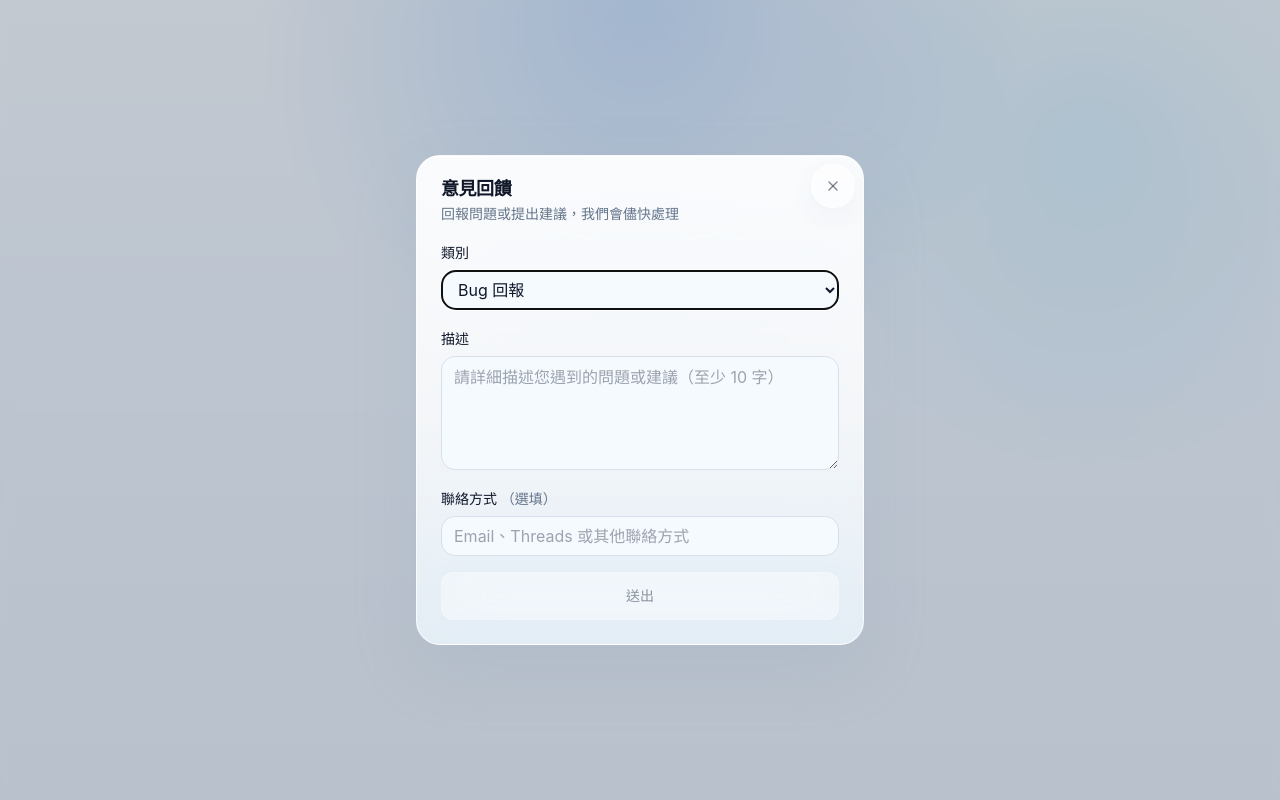
Test: FeedbackModal › 錯誤處理 › fetch 失敗 → 顯示網路錯誤 + 表單保留
Type "這個功能有問題，需要修正一下。" into the text box labelled "描述" at coordinates (640, 413), box 441,356 -> 839,470
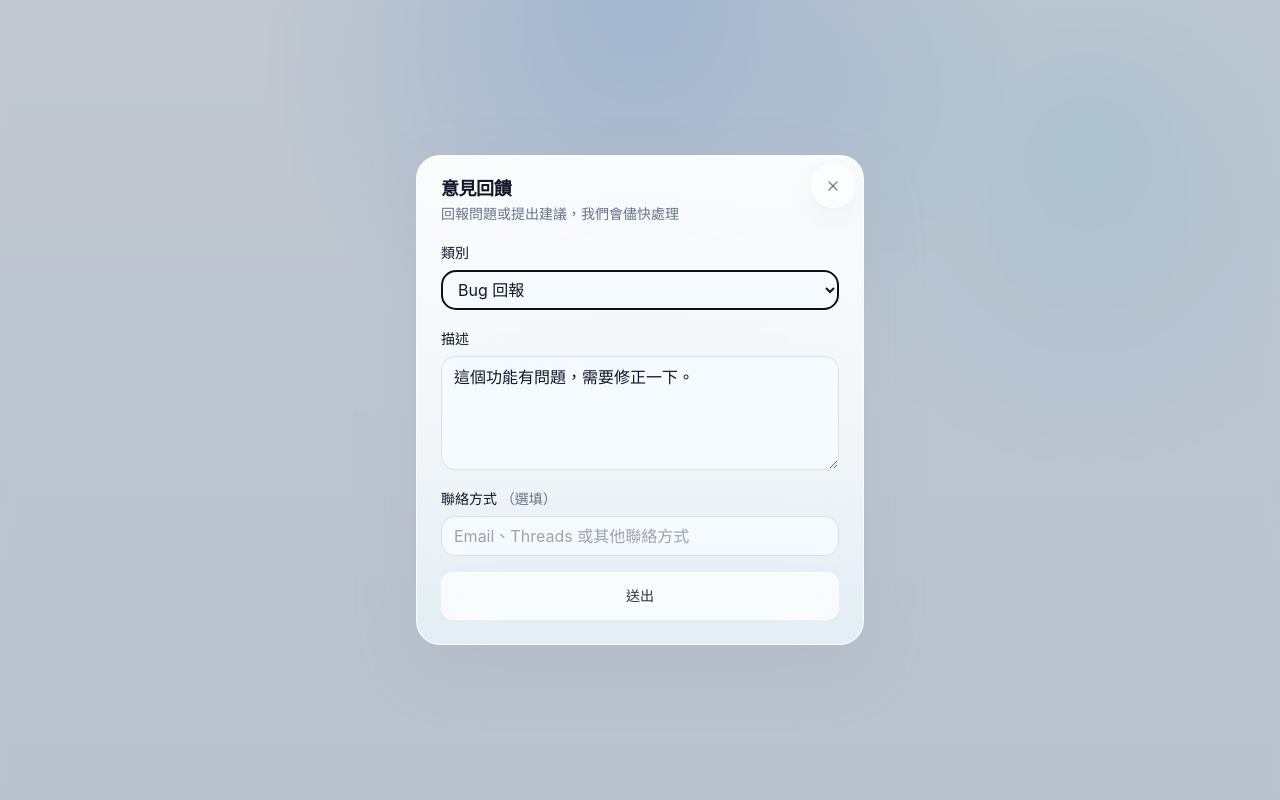
Click the button "送出" at coordinates (640, 596), box 441,572 -> 839,620
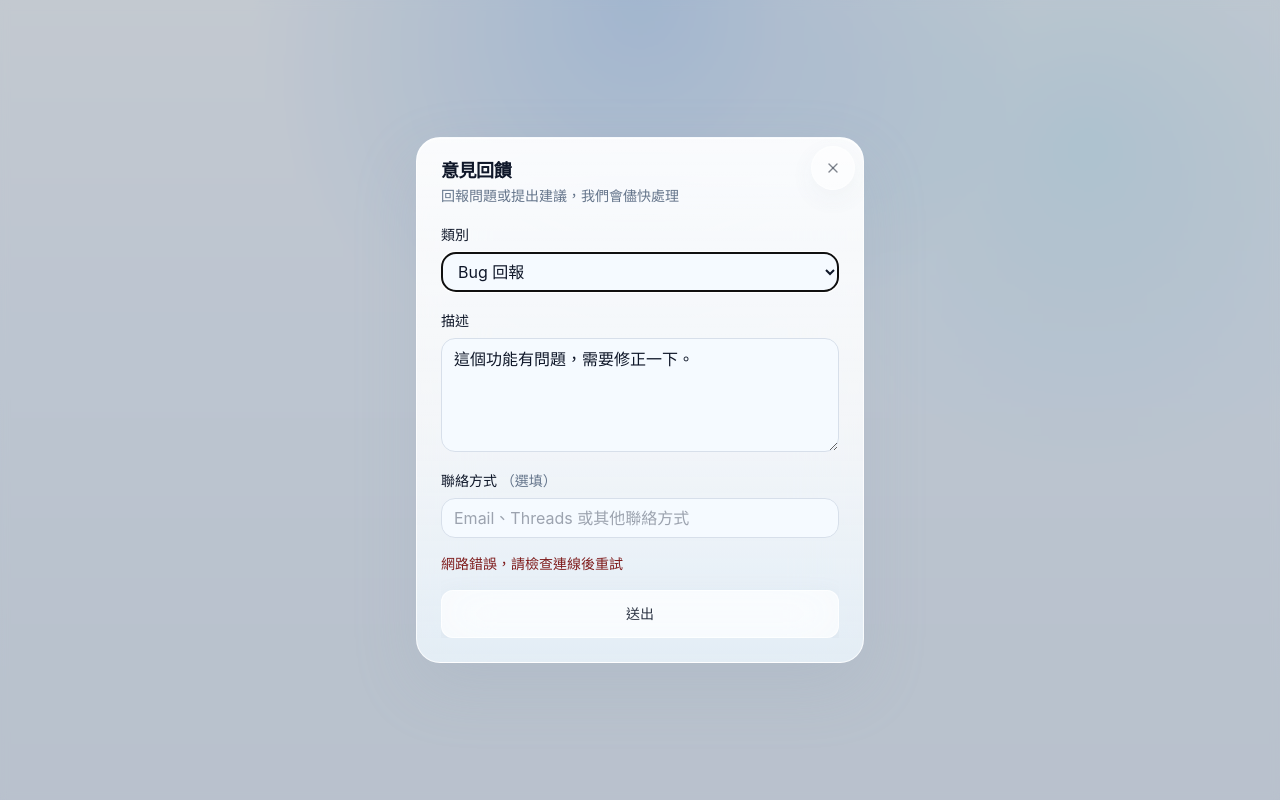
Check: the text "網路錯誤，請檢查連線後重試" is shown, box 441,555 -> 623,572
